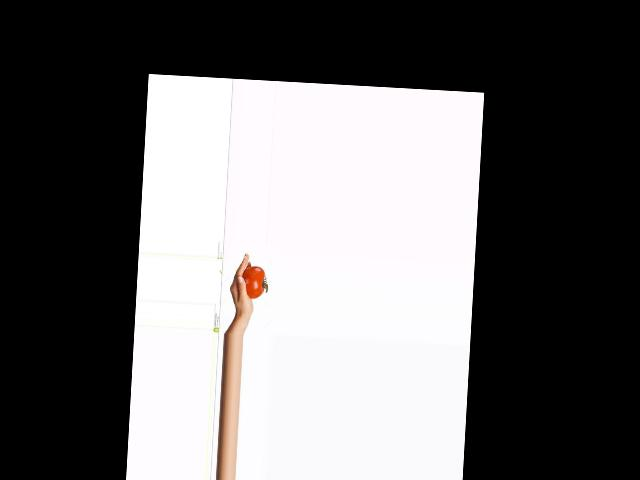tomato: (241, 265, 265, 299)
